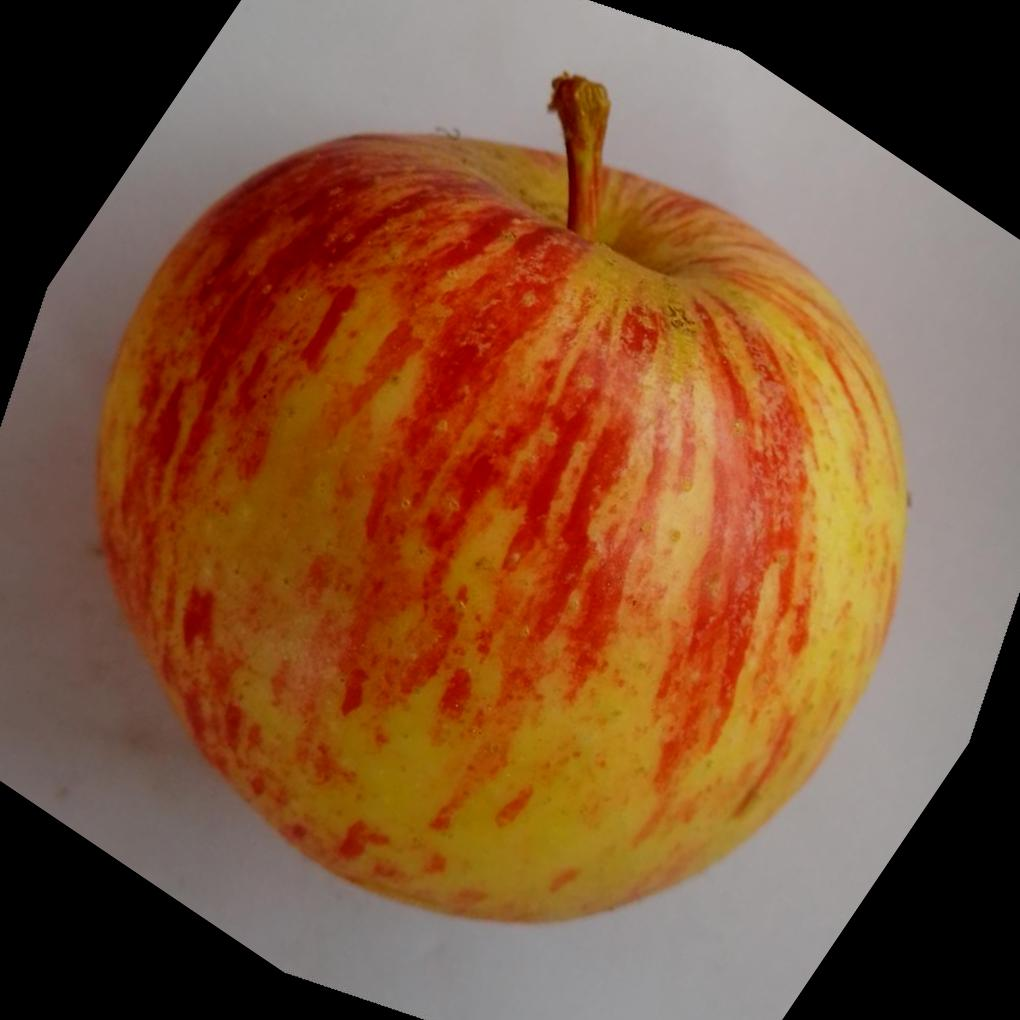FreshGuava: (93, 68, 914, 923)
